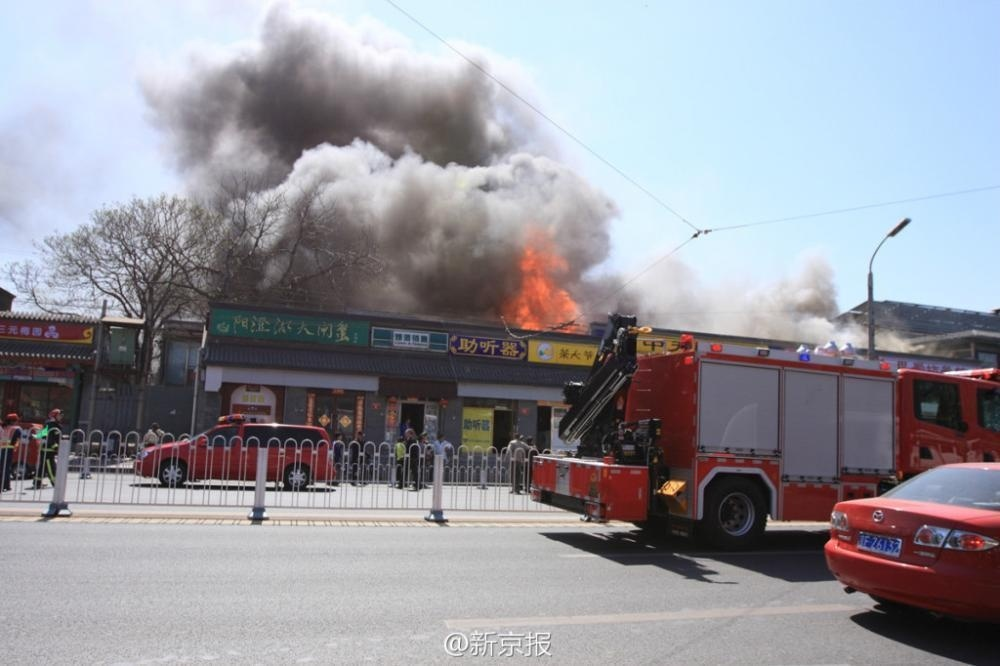fire: (504, 245, 581, 333)
